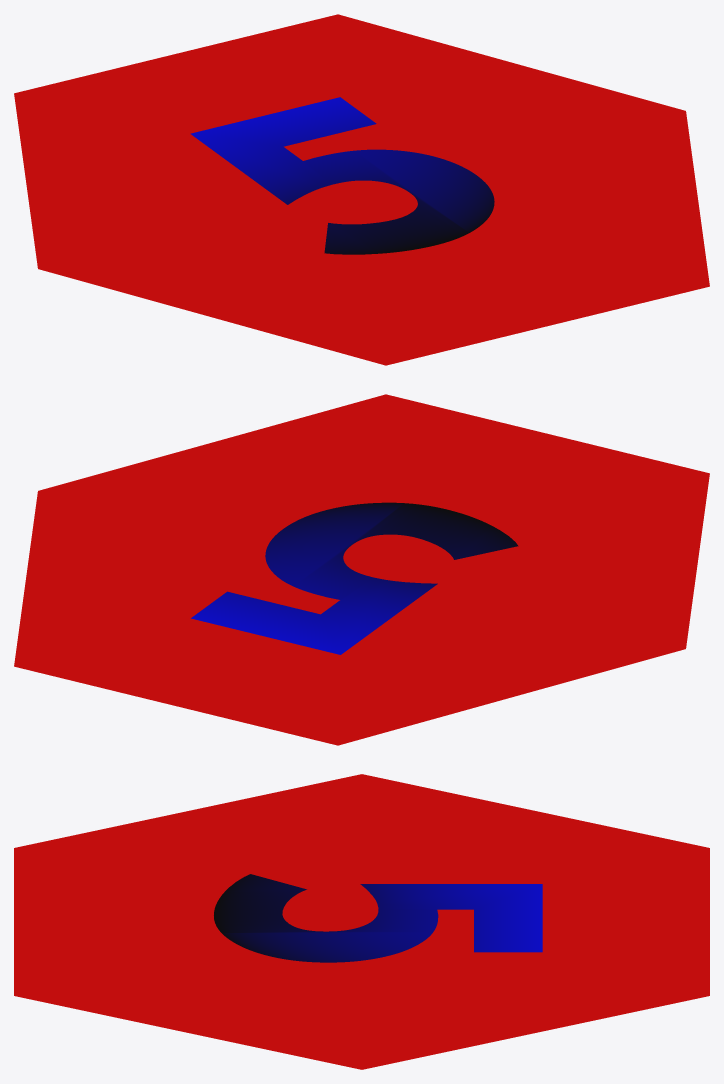
File: SM_Number_5.fbx
3 renders of one model, top to bottom at view 1: azimuth 30°, elevation 25°; view 2: azimuth 150°, elevation 25°; view 3: azimuth 270°, elevation 25°, orthographic. The views are drawn at different scales.
Visible parts, largest first — view 1: FBX_OUT; view 2: FBX_OUT; view 3: FBX_OUT.
Part boxes in pixels (x1=…): FBX_OUT: x1=14, y1=14, x2=709, y2=365; FBX_OUT: x1=14, y1=394, x2=709, y2=745; FBX_OUT: x1=14, y1=774, x2=709, y2=1069.
Bounding box in the file's own units: 50 × 0.2917 × 49.71.
